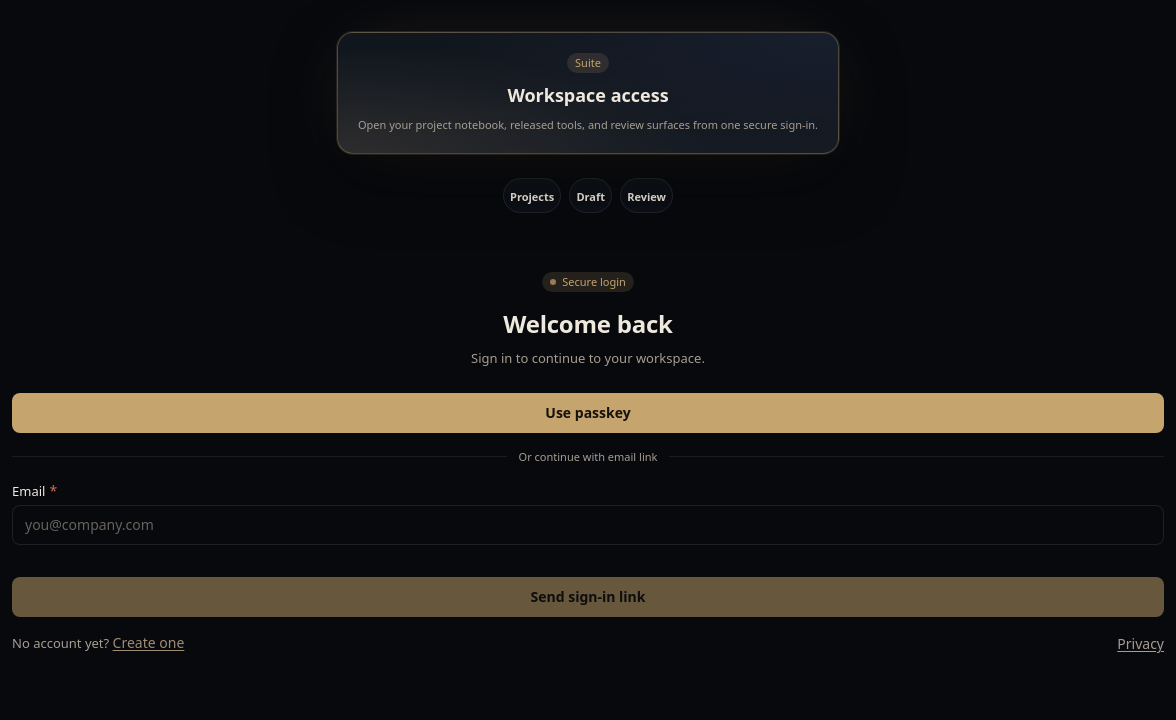
LoginPage › shows only the inline login error when a passkey credential request fails
This screenshot has width=1176, height=720.
Click the button "Use passkey" at point(588, 413), box [12,393,1164,433]
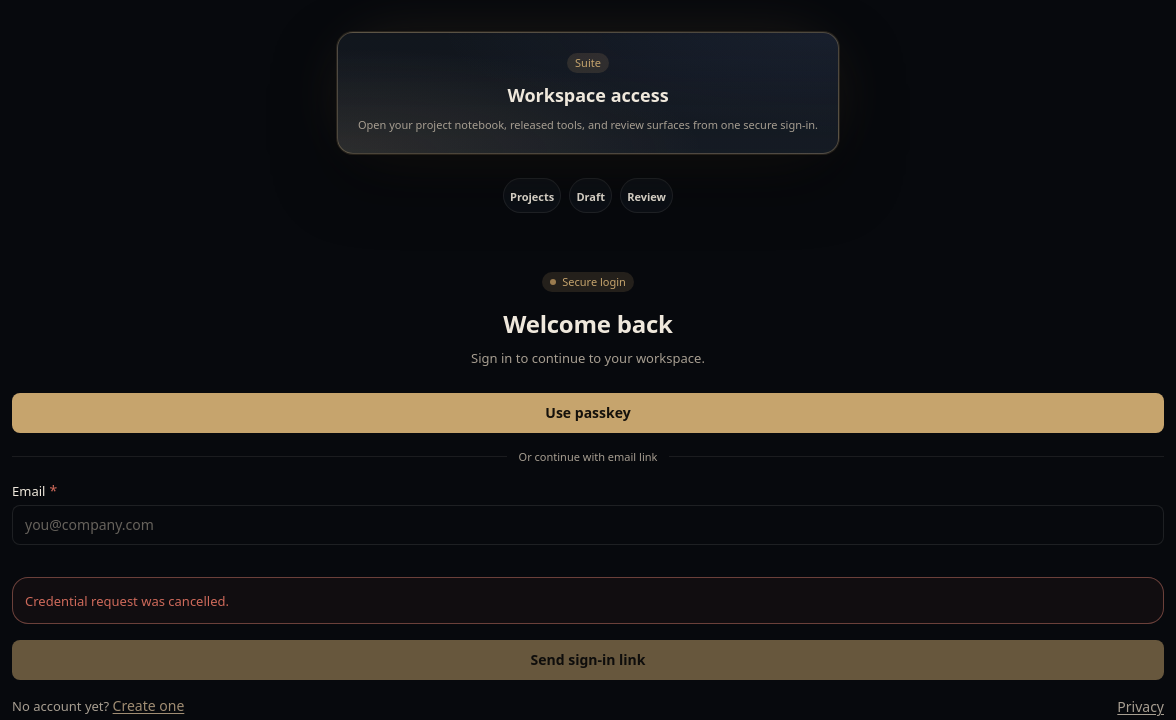
Expected: the text "Credential request was cancelled." is shown, [25,592,229,610]
